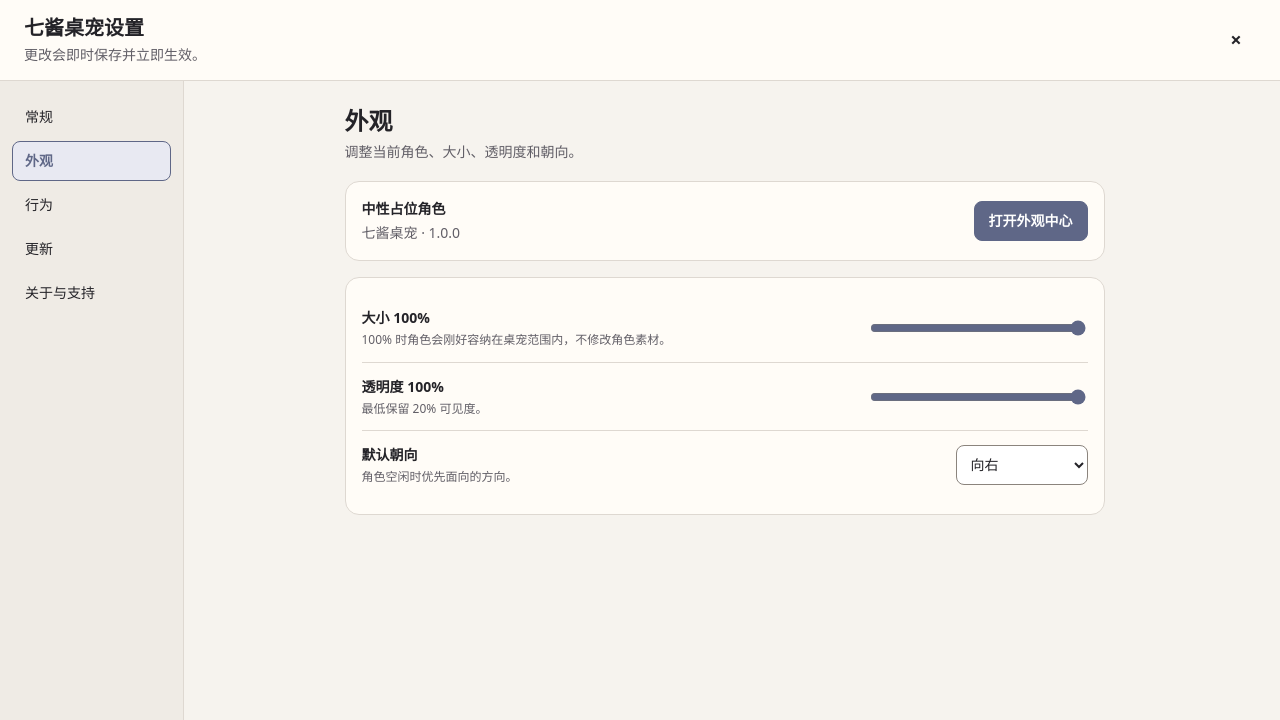
Scenario: SettingsWindow › serializes rapid slider changes and persists the final value
Set the slider labelled "大小 100%" to "80" at x=1033, y=328, box [870,320,1086,336]
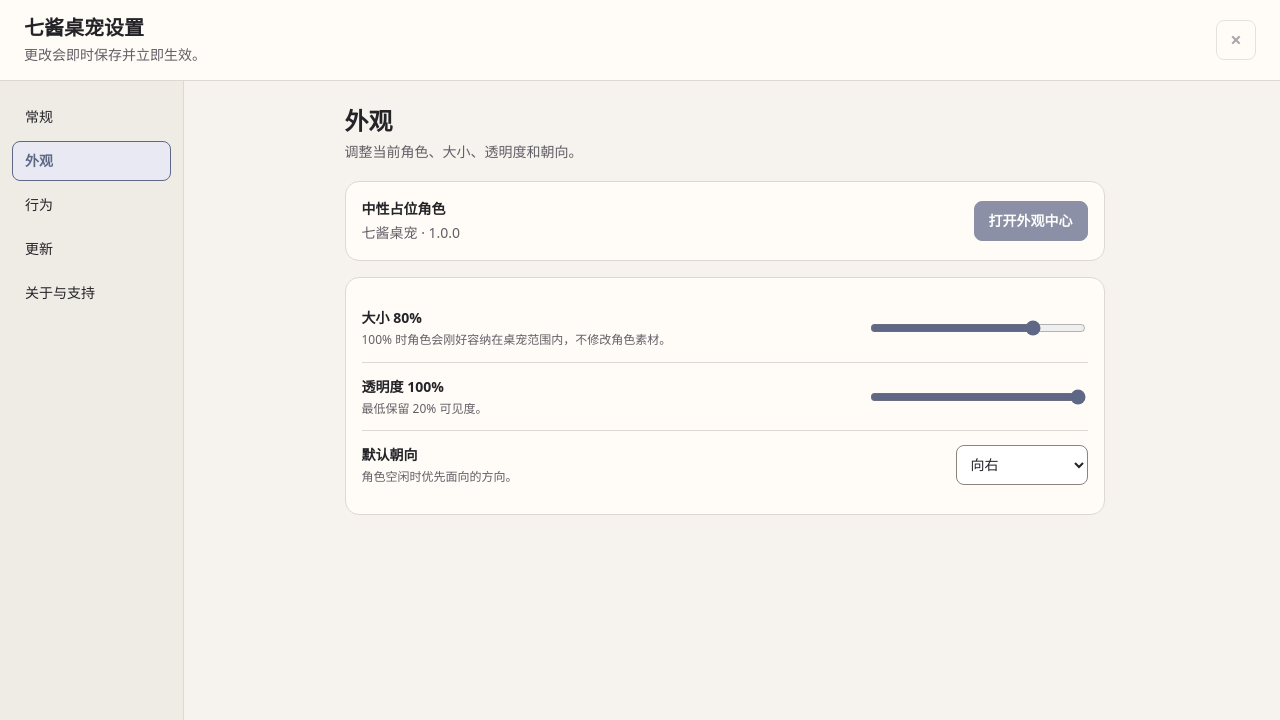
Set the slider named "大小 100%" to "70" at x=1011, y=328, box [870,320,1086,336]
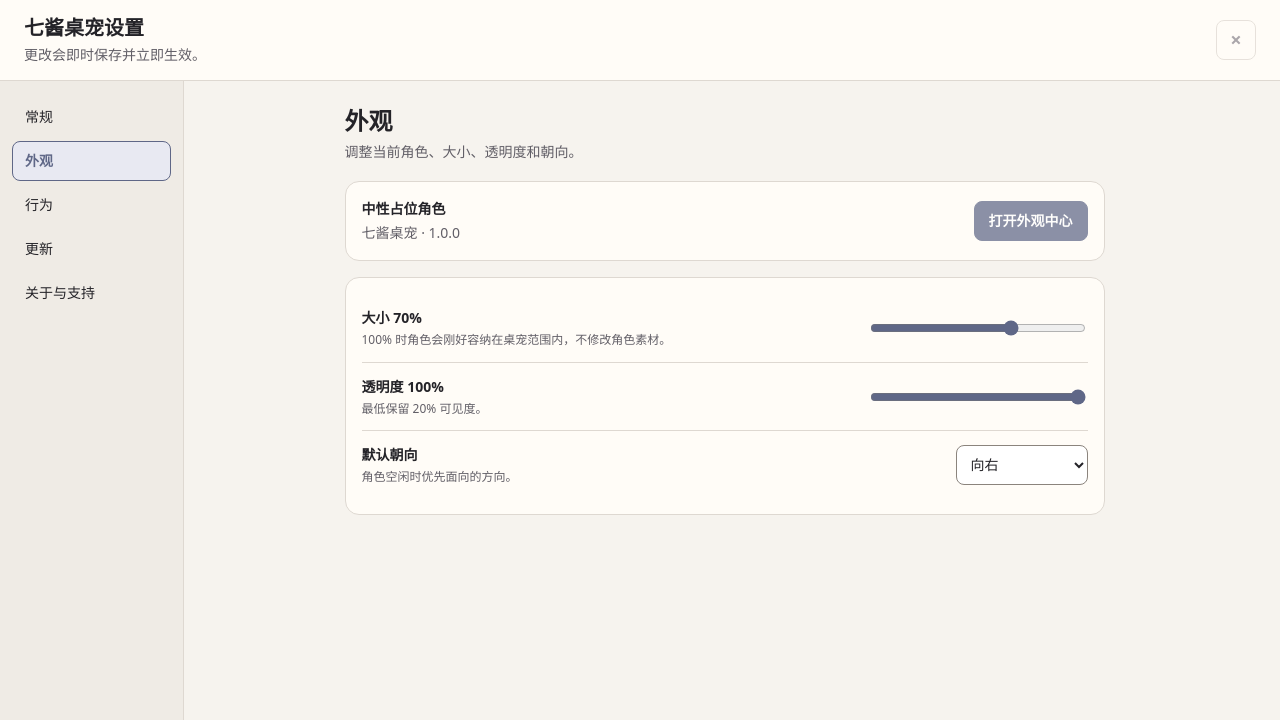
Set the slider named "大小 100%" to "65" at x=1000, y=328, box [870,320,1086,336]
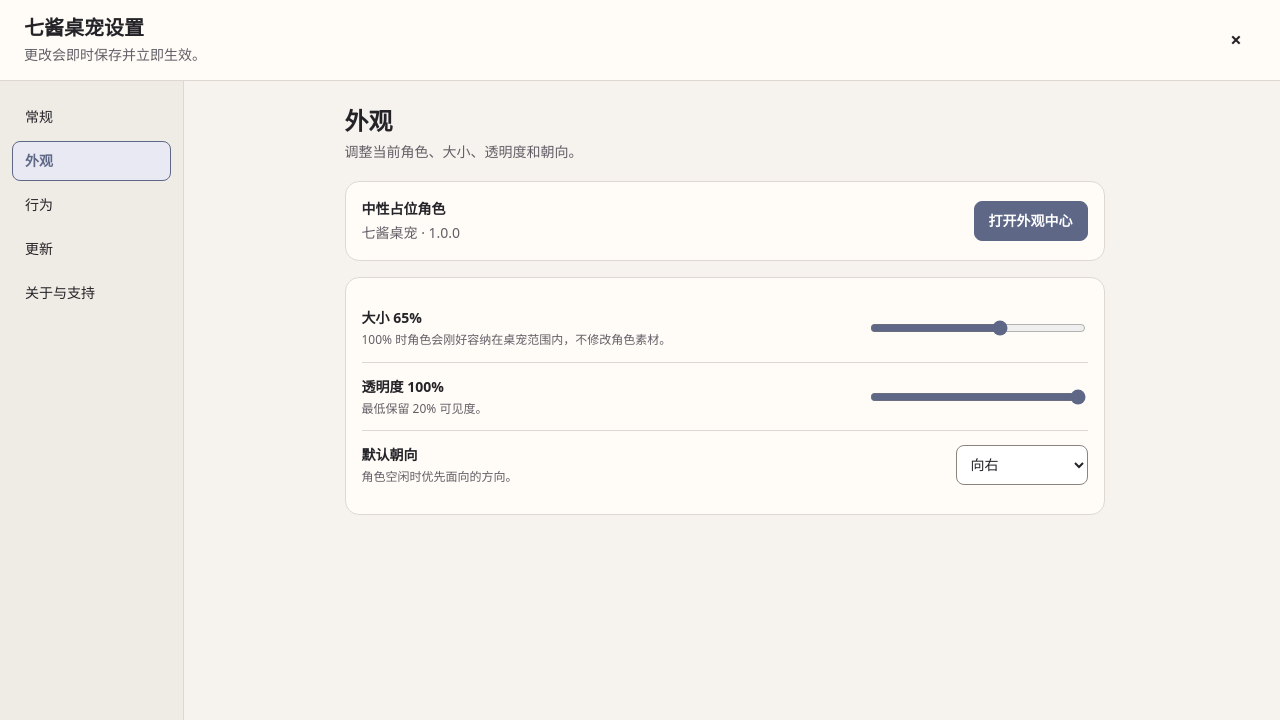
Expected: the text "更改会即时保存并立即生效。" is shown, [24,44,206,66]
Expected: the text "大小 65%" is shown, [362,308,422,327]
